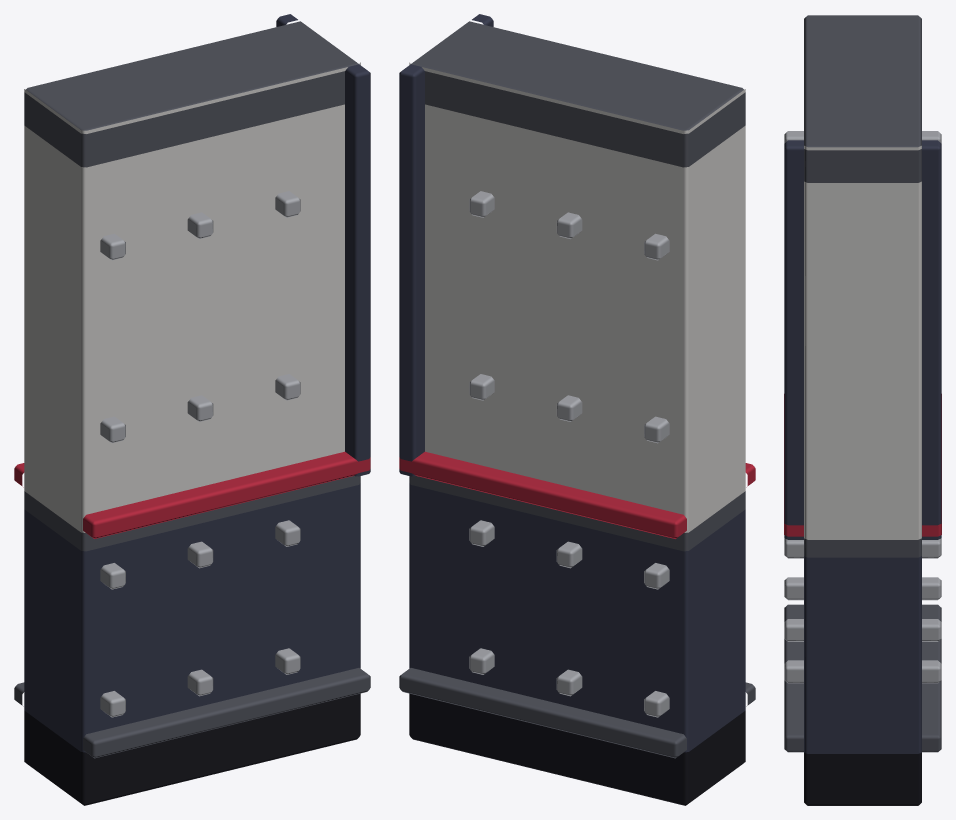
The model's file is int.edge.reinforced.glb.
The picture shows the model from 3 angles, left to right: view 1: azimuth 30°, elevation 25°; view 2: azimuth 150°, elevation 25°; view 3: azimuth 270°, elevation 25°; orthographic projection. The views are drawn at different scales.
Parts seen in each view (by area): view 1: int.edge.reinforced; view 2: int.edge.reinforced; view 3: int.edge.reinforced.
Part boxes in pixels (left/top/right/bottom): int.edge.reinforced: left=14, top=14, right=370, bottom=805; int.edge.reinforced: left=399, top=14, right=755, bottom=805; int.edge.reinforced: left=784, top=15, right=941, bottom=805.
Size of the model in its own units: 1 by 2.31 by 0.5005.
